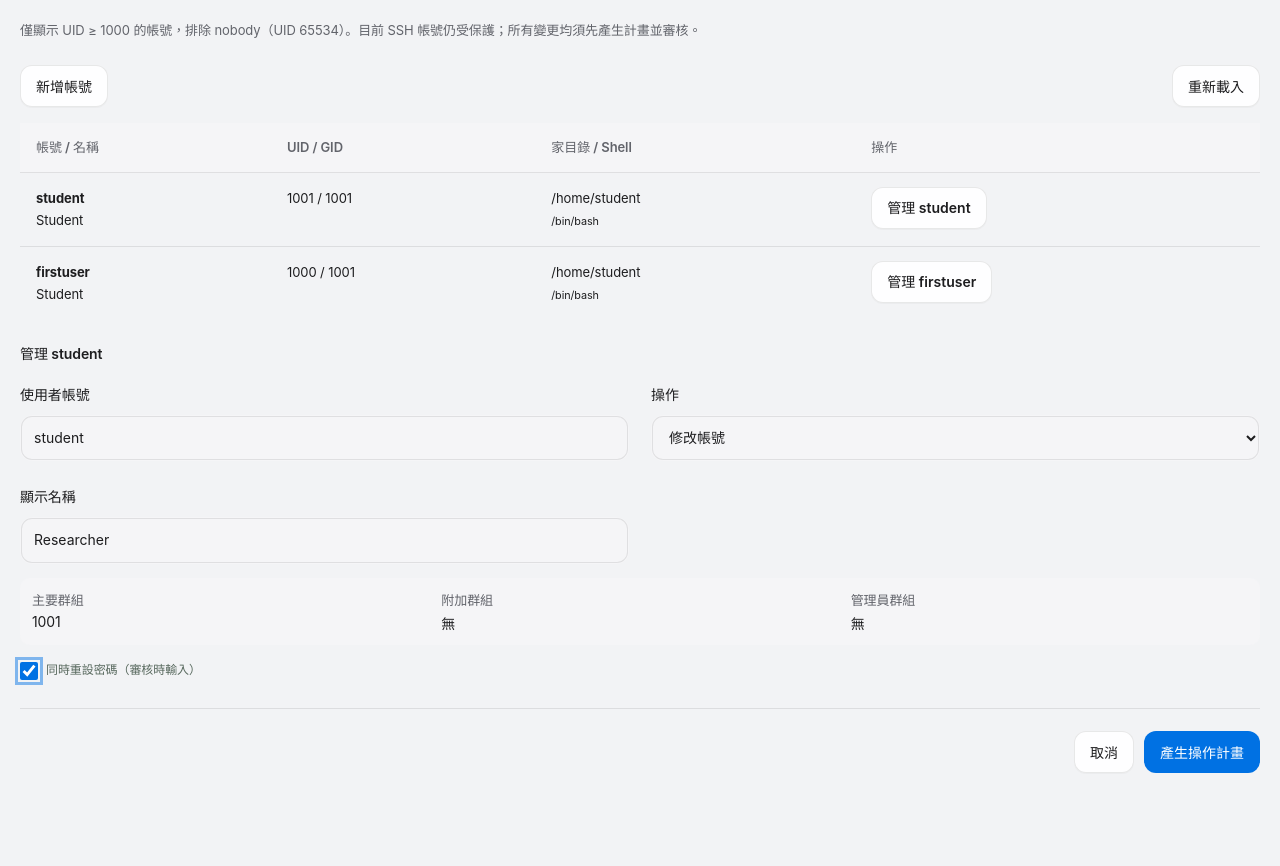
Test: previews commands before requiring explicit approval and never writes through legacy API
Earlier steps of the test are not shown.
Click the button "產生操作計畫" at (1202, 752), box x1=1144 y1=731 x2=1260 y2=773
(page scrolled)
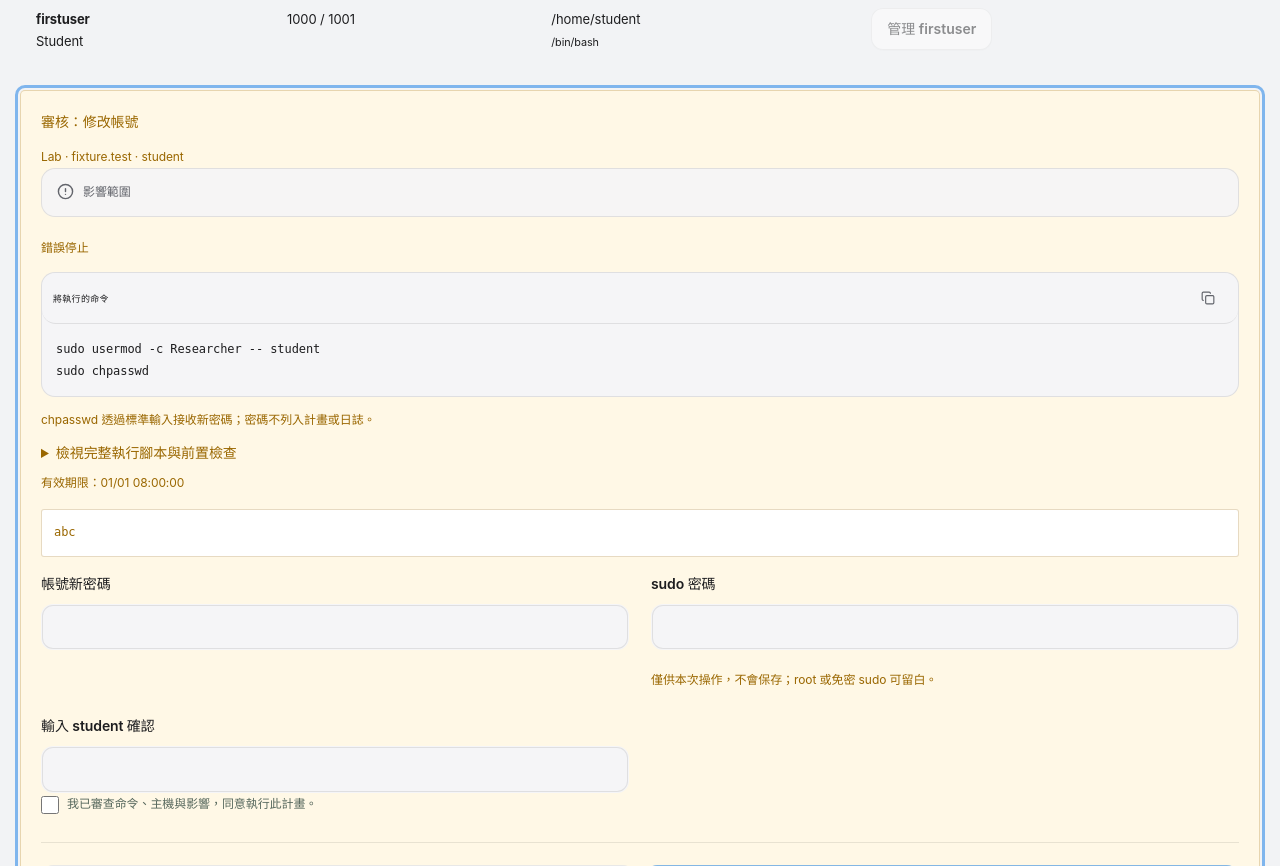
Type "new-password" into the password field labelled "帳號新密碼" at (335, 627), box x1=41 y1=604 x2=629 y2=650
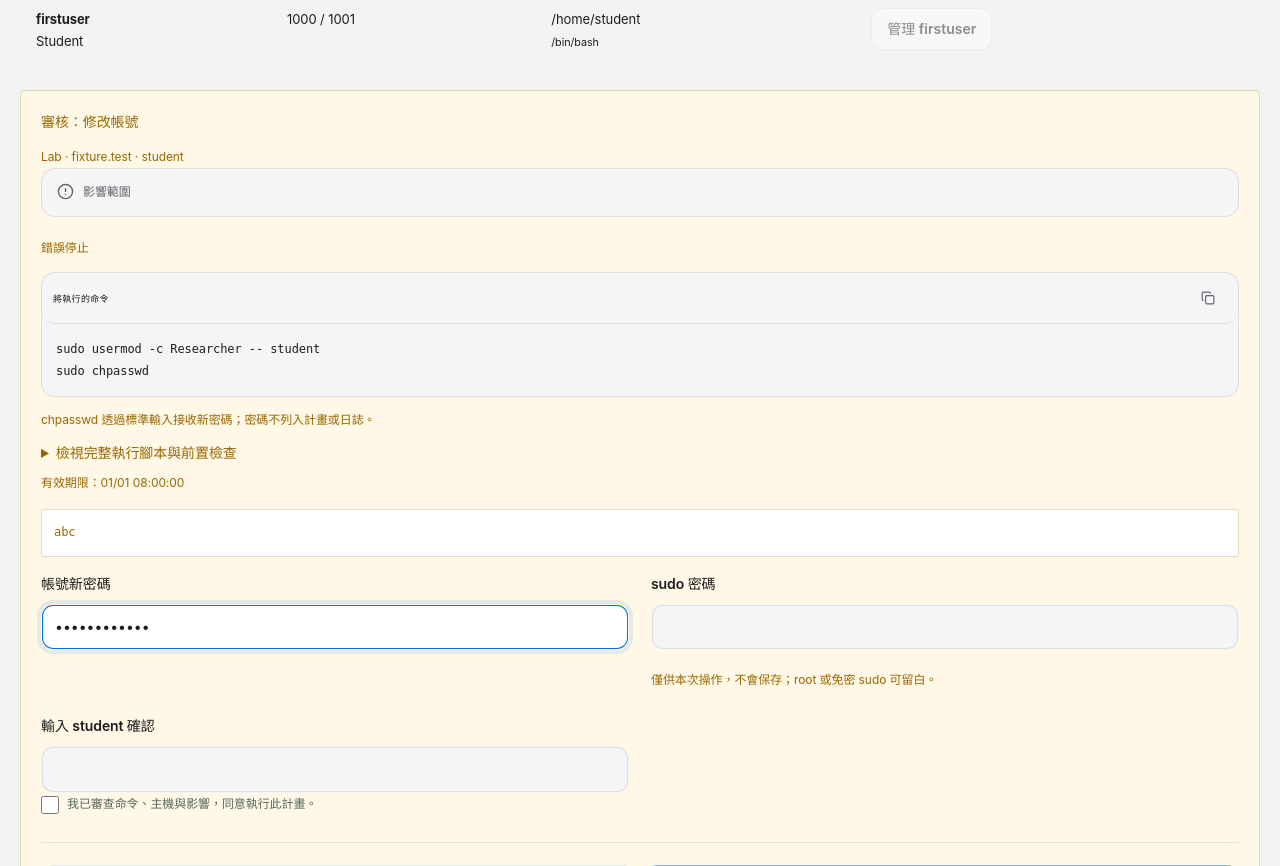
Type "sudo-password" into the password field labelled "sudo 密碼" at (945, 627), box x1=651 y1=604 x2=1239 y2=650
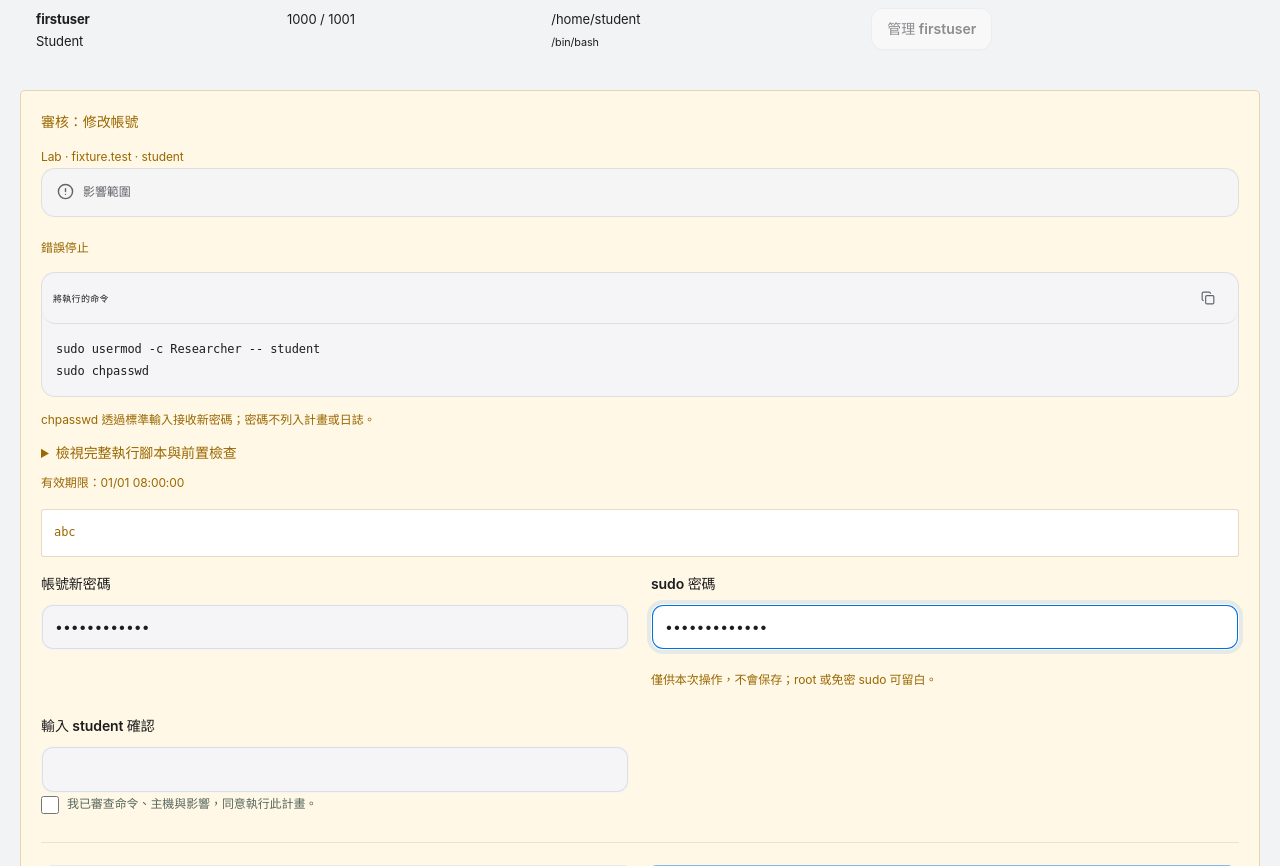
Type "student" into the field labelled "輸入 student 確認" at (335, 769), box x1=41 y1=746 x2=629 y2=792
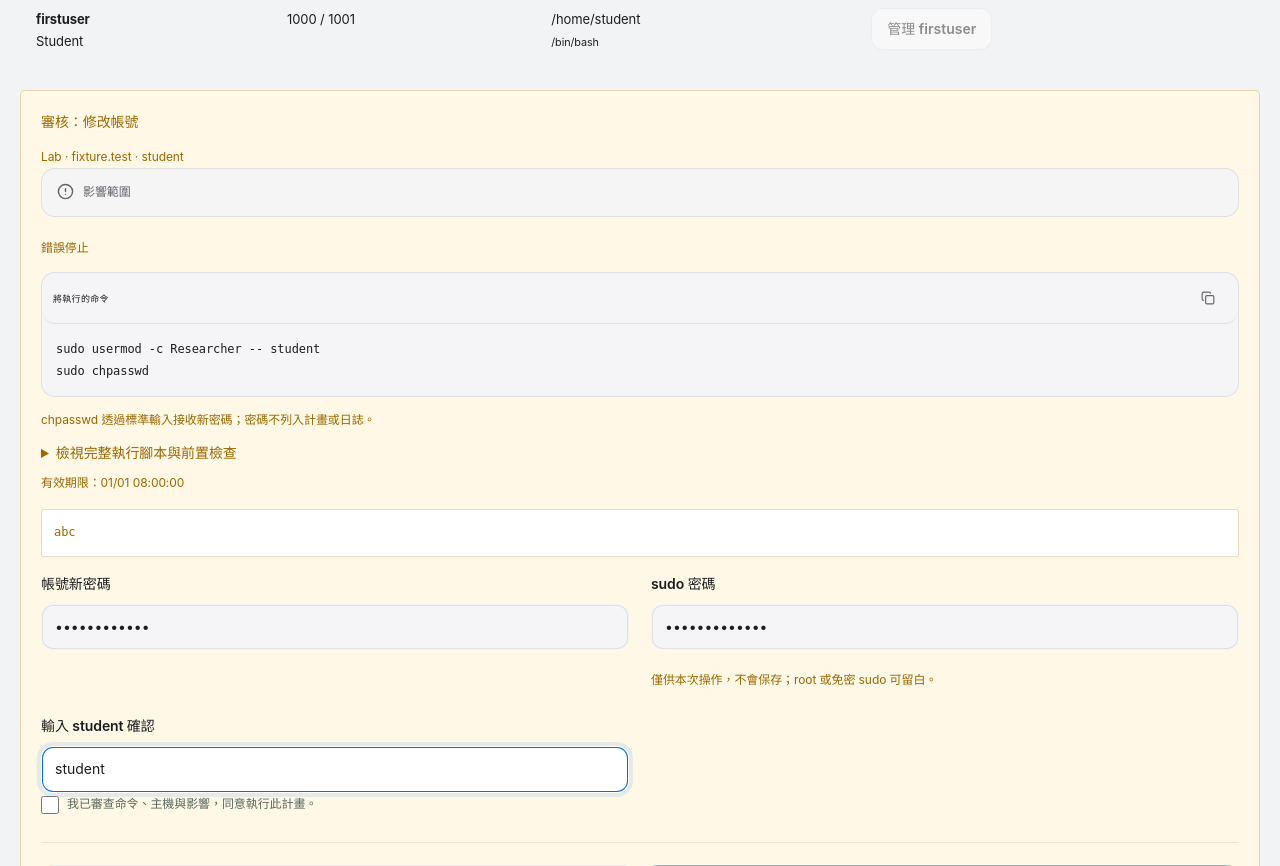
Click the checkbox labelled "我已審查命令、主機與影響，同意執行此計畫。" at (50, 804), box x1=41 y1=796 x2=59 y2=814
(page scrolled)
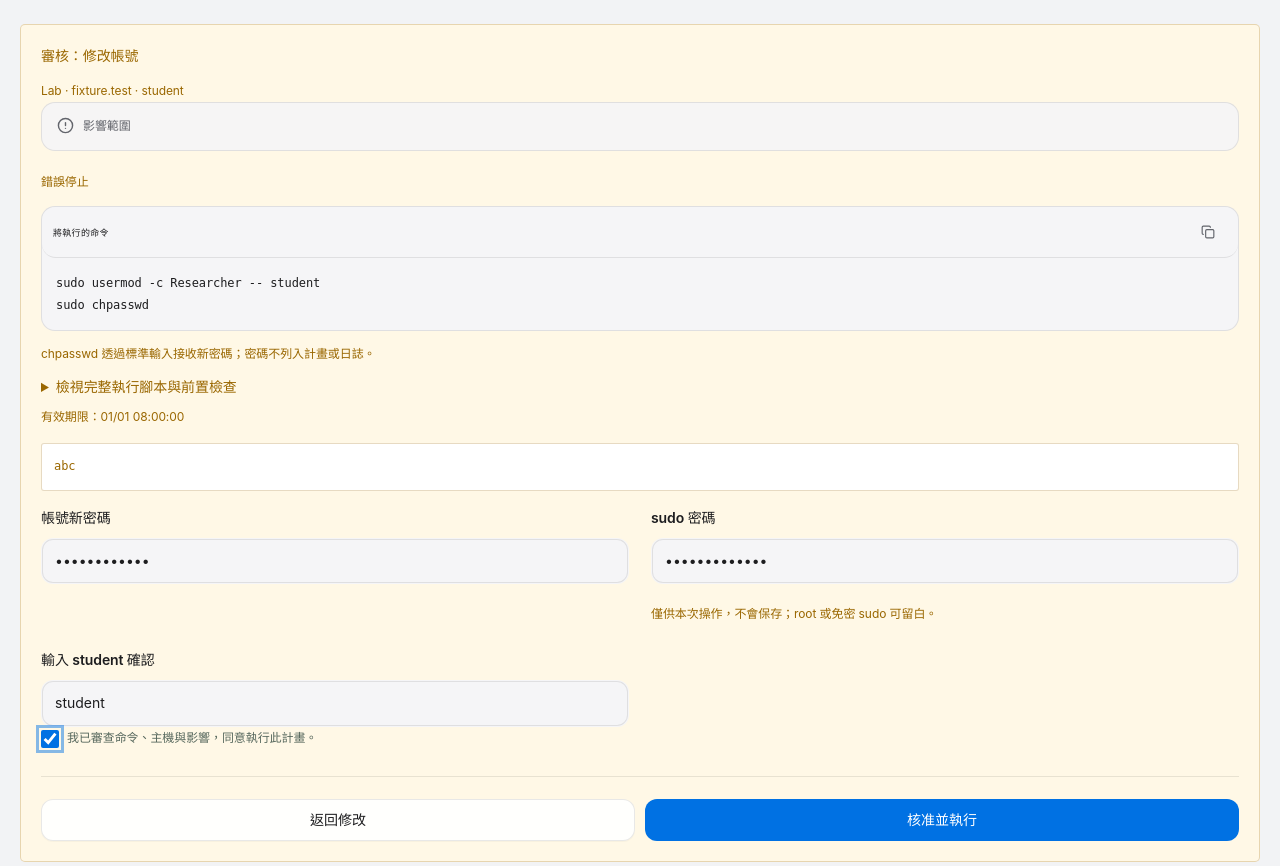
Click the button "核准並執行" at (942, 820), box x1=645 y1=799 x2=1239 y2=841
(page scrolled)
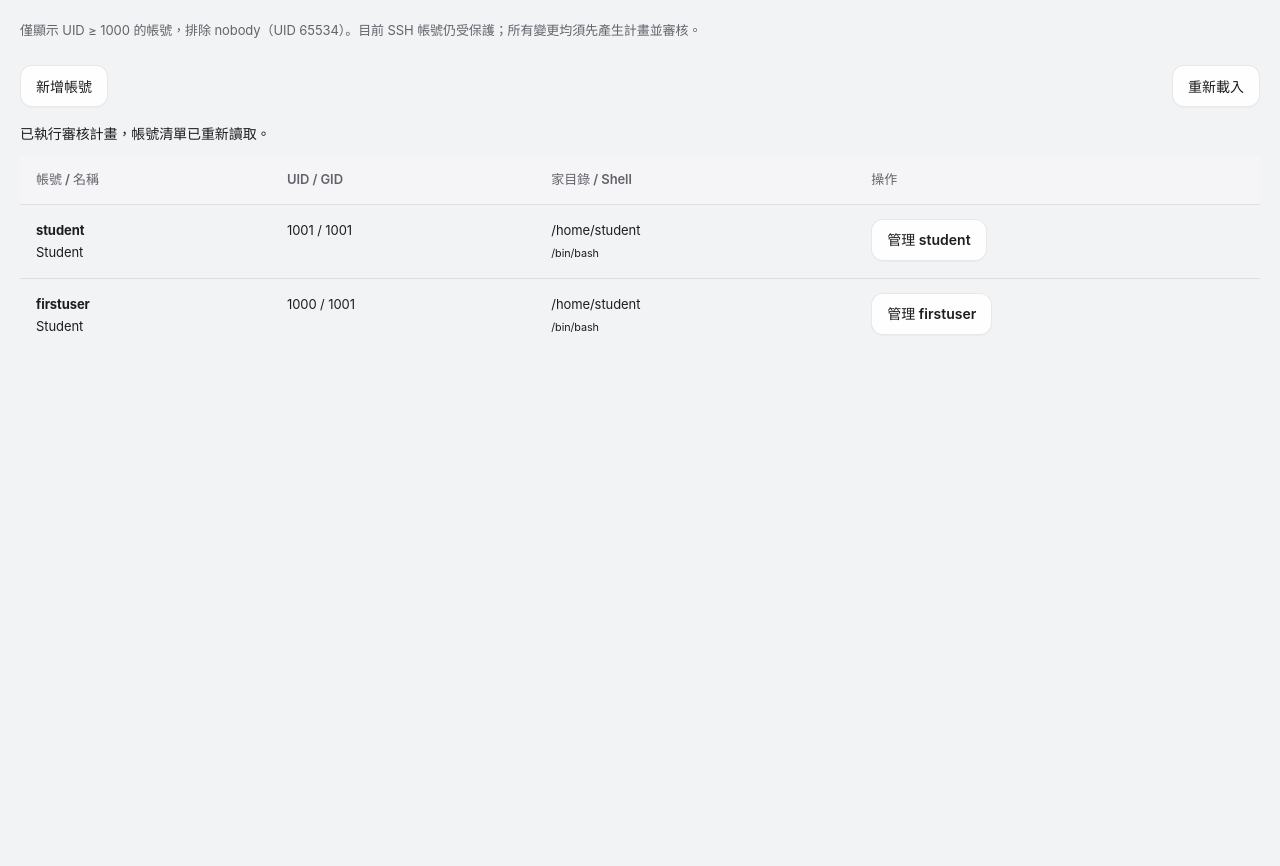
Now the text "已執行審核計畫，帳號清單已重新讀取。" is shown, box x1=20 y1=125 x2=270 y2=142
Now the text labelled "帳號新密碼" is gone
